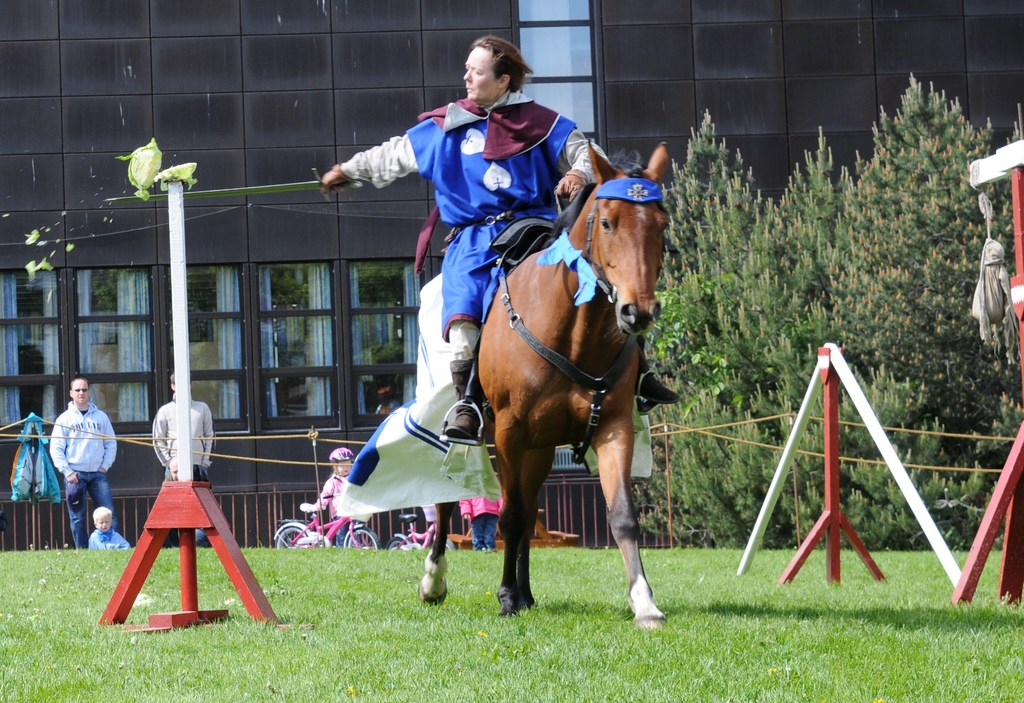Person: (50, 36, 611, 549)
